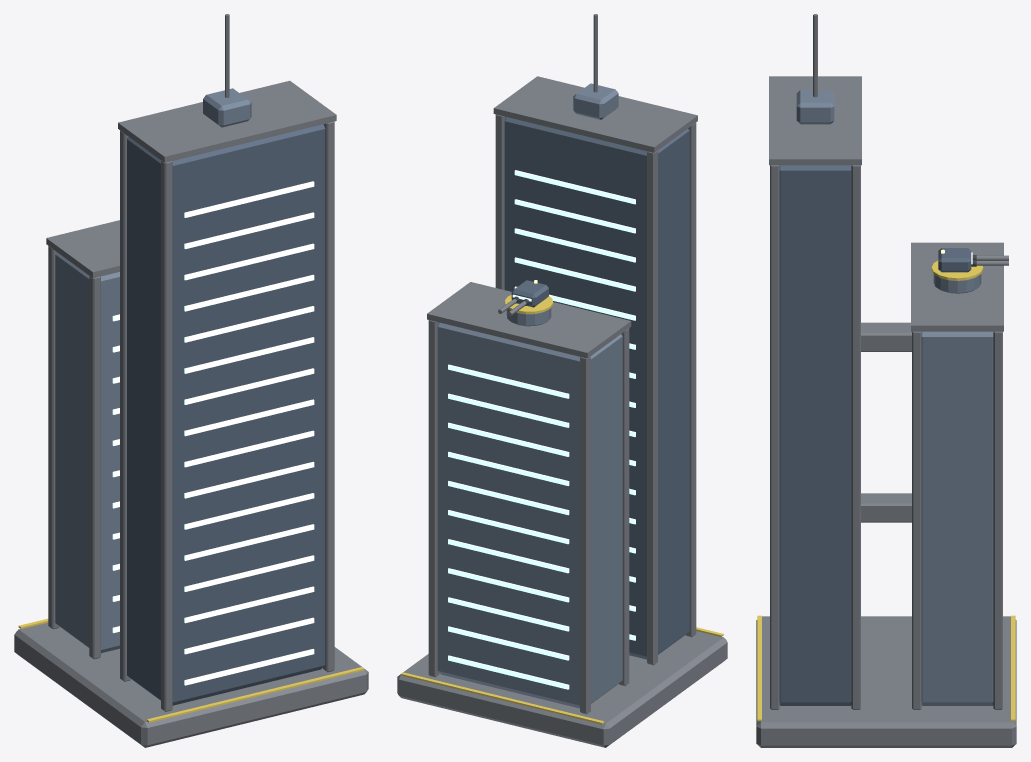
File: zone_high_5.glb
3 views of the same model, side by side, from view 1: azimuth 30°, elevation 25°; view 2: azimuth 150°, elevation 25°; view 3: azimuth 270°, elevation 25° (orthographic). The views are drawn at different scales.
Visible parts, largest first — view 1: zone_high_5, detail; view 2: zone_high_5, detail; view 3: zone_high_5, detail.
Boxes of the visible parts, x1=… form: zone_high_5: x1=14, y1=80, x2=368, y2=747; detail: x1=18, y1=14, x2=364, y2=722; zone_high_5: x1=397, y1=76, x2=727, y2=747; detail: x1=401, y1=14, x2=723, y2=724; zone_high_5: x1=756, y1=76, x2=1016, y2=747; detail: x1=757, y1=14, x2=1015, y2=721.
Size of the model in its own units: 27.5 by 79.26 by 27.5.
